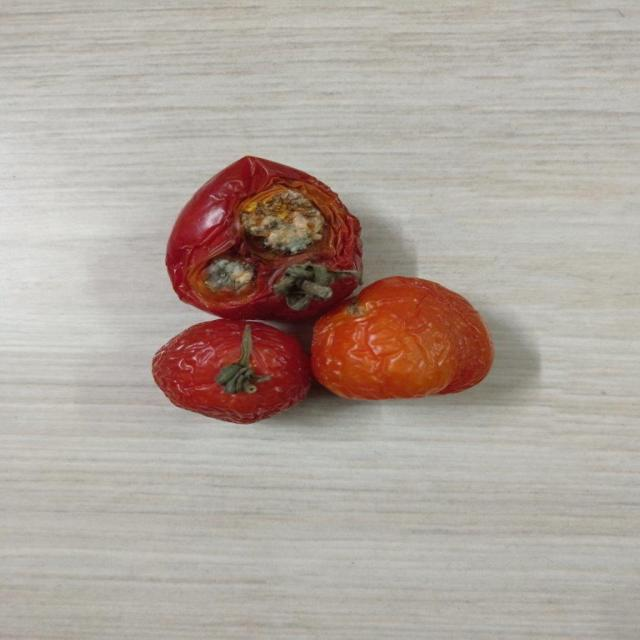Rotten: (164, 154, 362, 320)
overripe: (152, 317, 310, 423)
